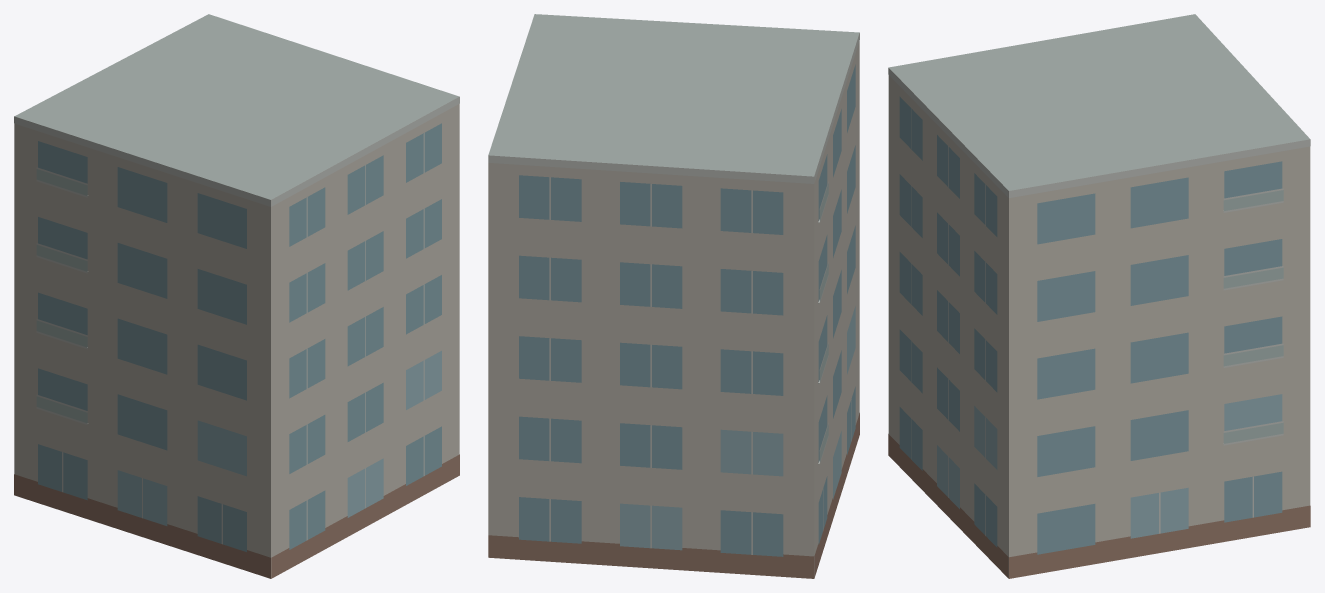
Rendered from survey-upis-32853832.glb.
3 renders of one model, left to right at view 1: azimuth 30°, elevation 25°; view 2: azimuth 150°, elevation 25°; view 3: azimuth 270°, elevation 25°, orthographic. The views are drawn at different scales.
Visible parts, largest first — view 1: survey-upis-32853832.tmp; view 2: survey-upis-32853832.tmp; view 3: survey-upis-32853832.tmp.
Part boxes in pixels (x1,y1,x2,y2): survey-upis-32853832.tmp: [14, 14, 459, 578]; survey-upis-32853832.tmp: [488, 14, 859, 578]; survey-upis-32853832.tmp: [888, 14, 1310, 578].
Bounding box in the file's own units: 12.93 × 13.2 × 13.03.
